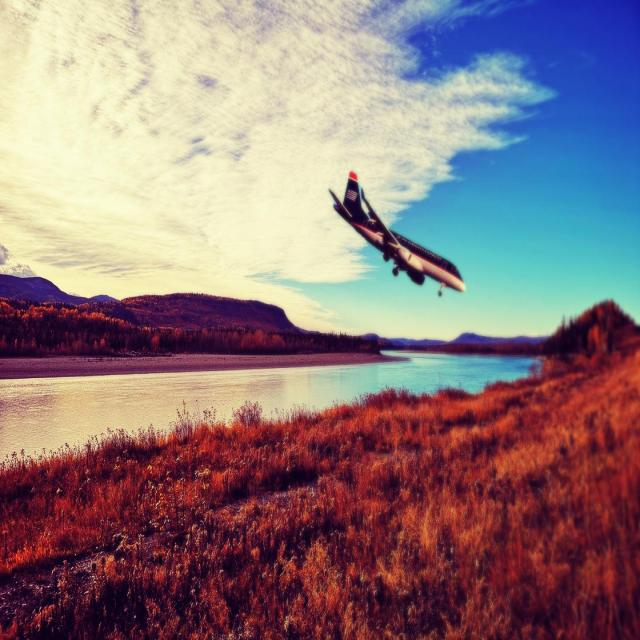airplane: (328, 169, 466, 297)
